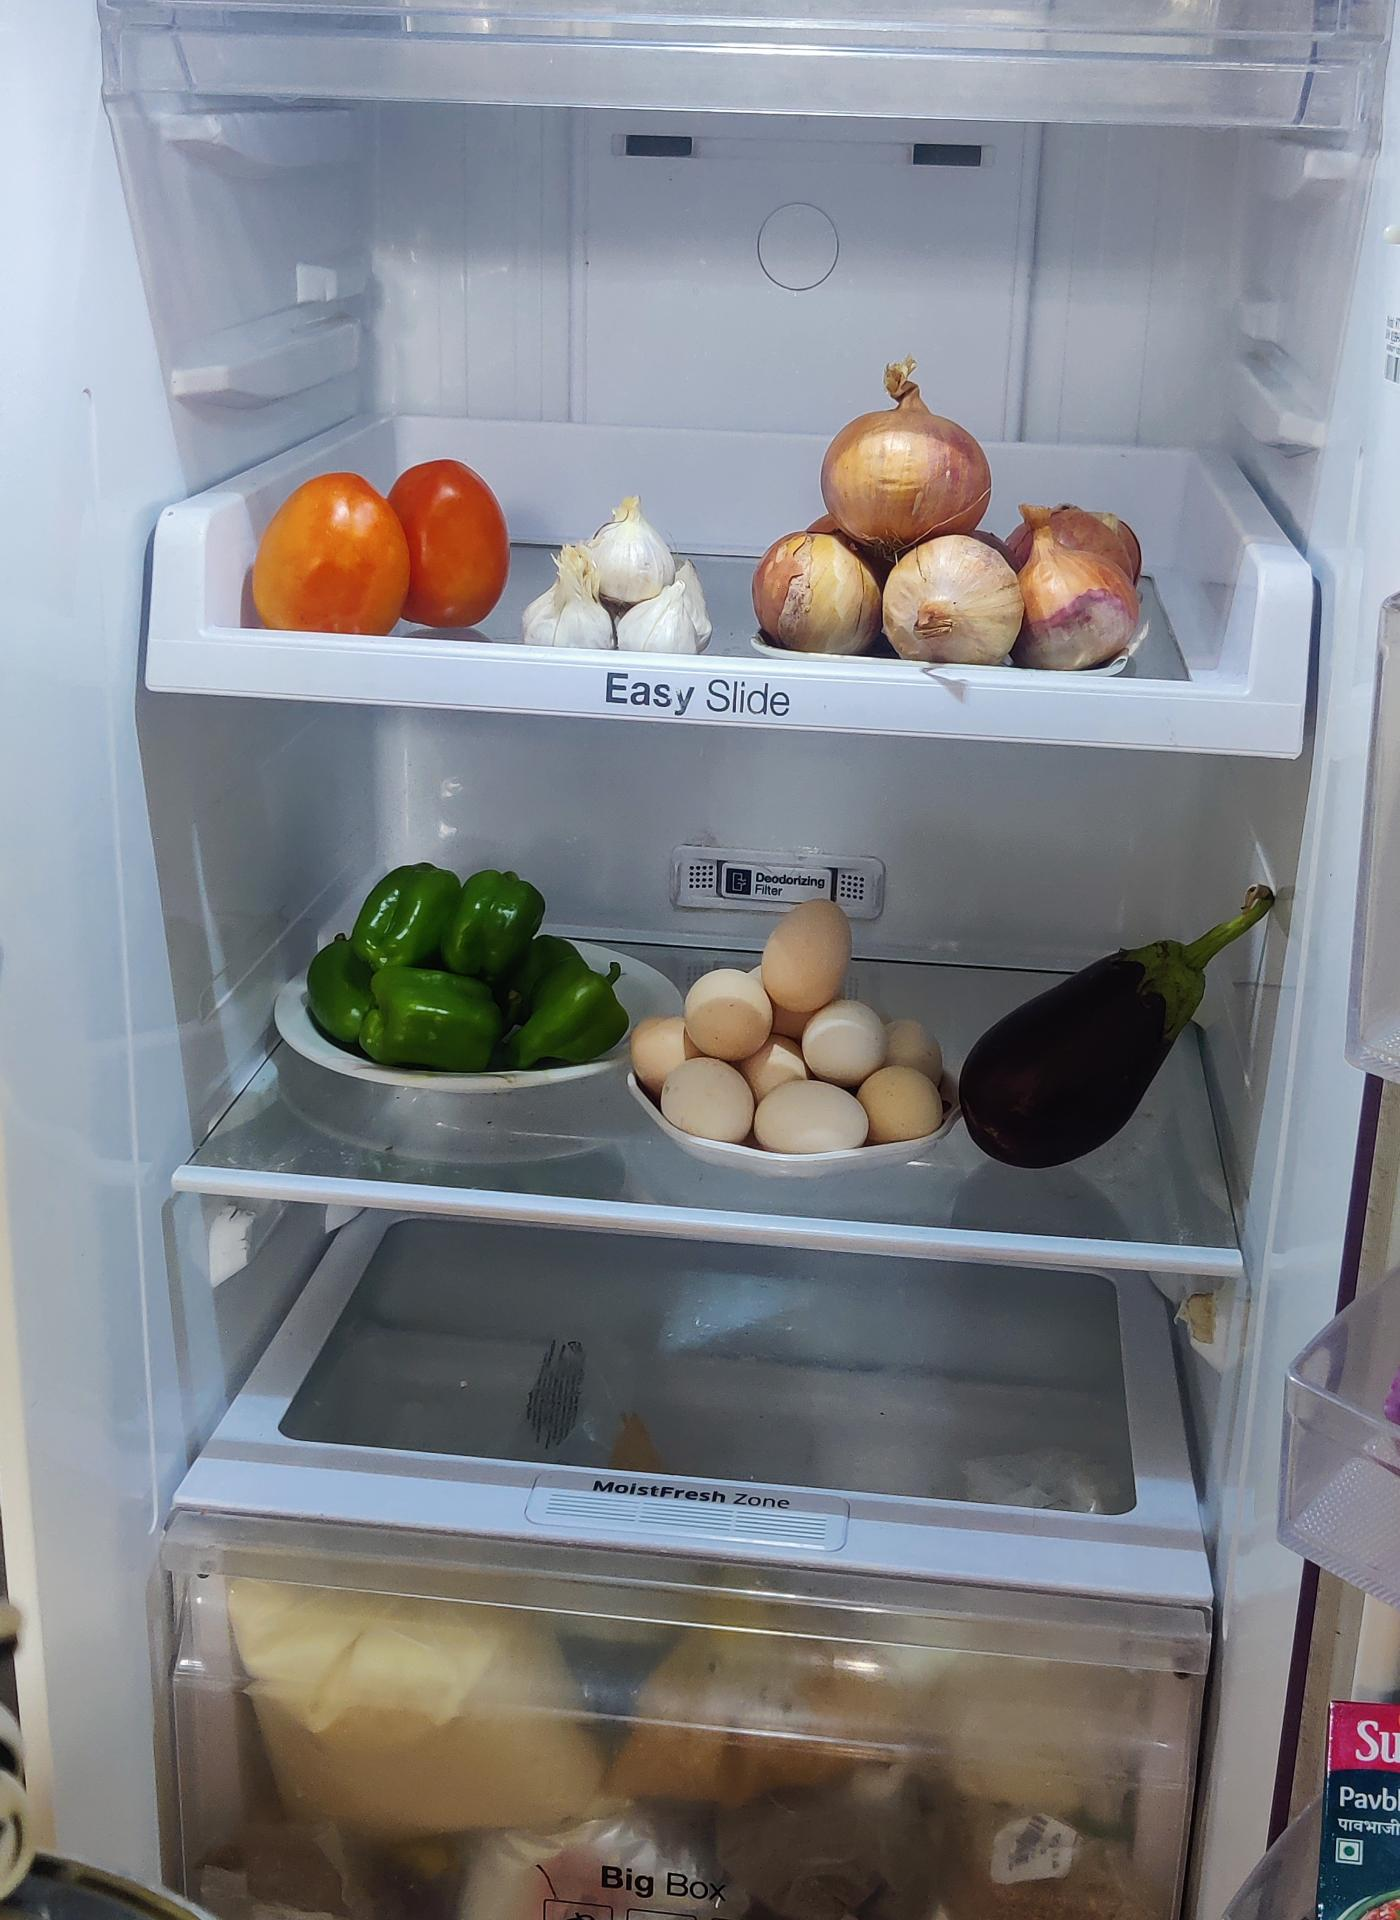brinjal: (977, 908, 1205, 1179)
capsicum: (307, 865, 634, 1081)
egg: (626, 899, 939, 1148)
garlic: (529, 499, 714, 666)
onion: (744, 407, 1145, 678)
tomato: (250, 462, 520, 644)
